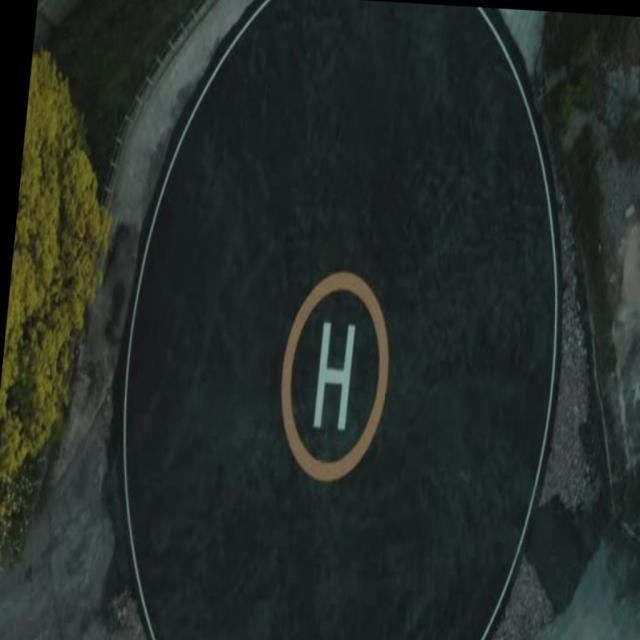helipad: (276, 266, 396, 487)
